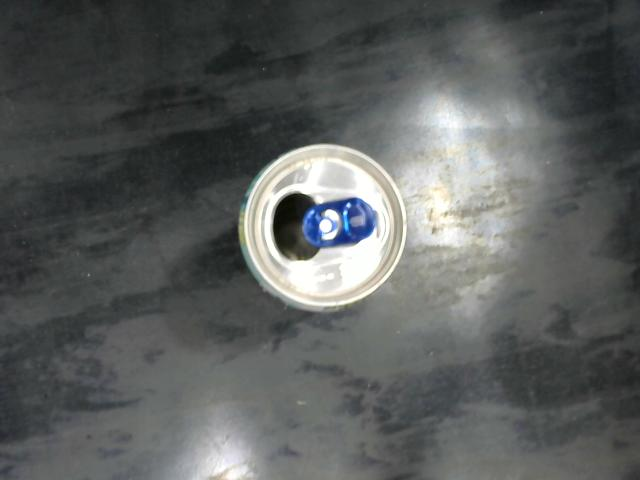can: (238, 142, 408, 313)
